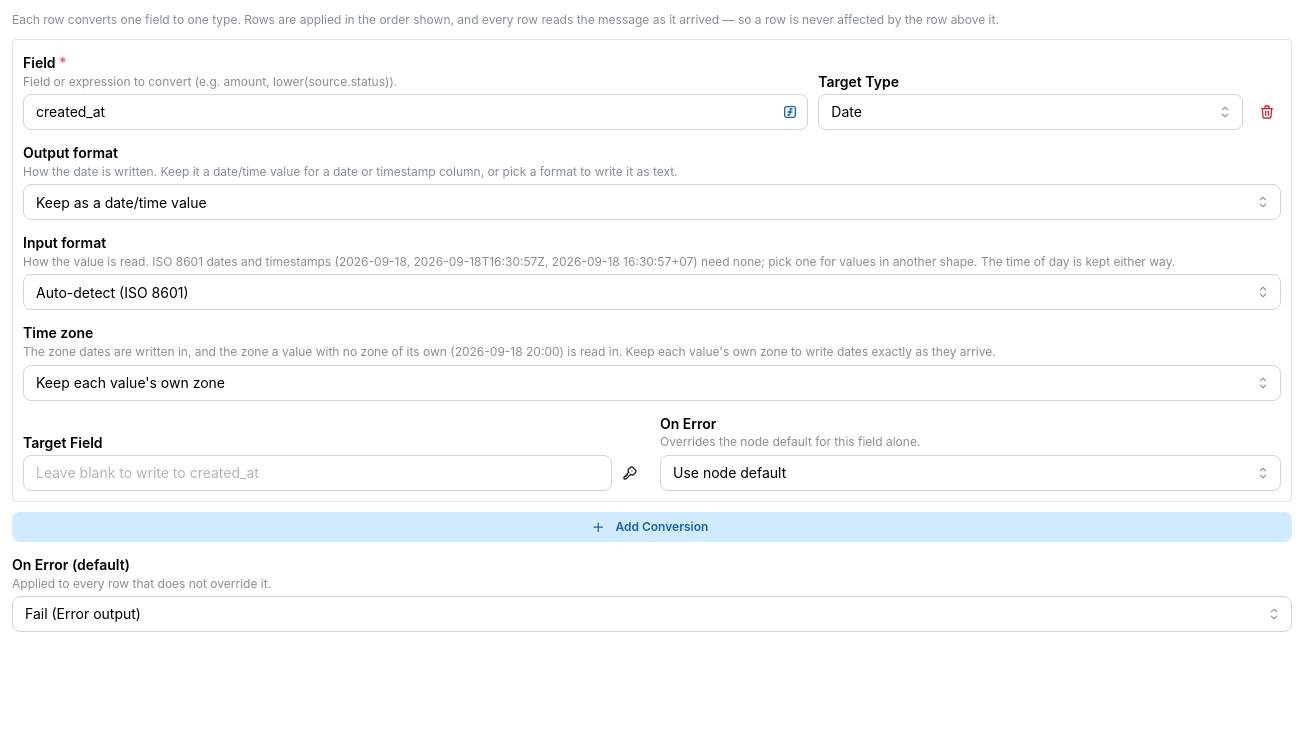
Test: data_conversion date formats › writes the layout behind the output format picked
The image size is (1304, 732).
Click the dropdown labelled "Output format" at coordinates (652, 202), box [23,184,1281,220]
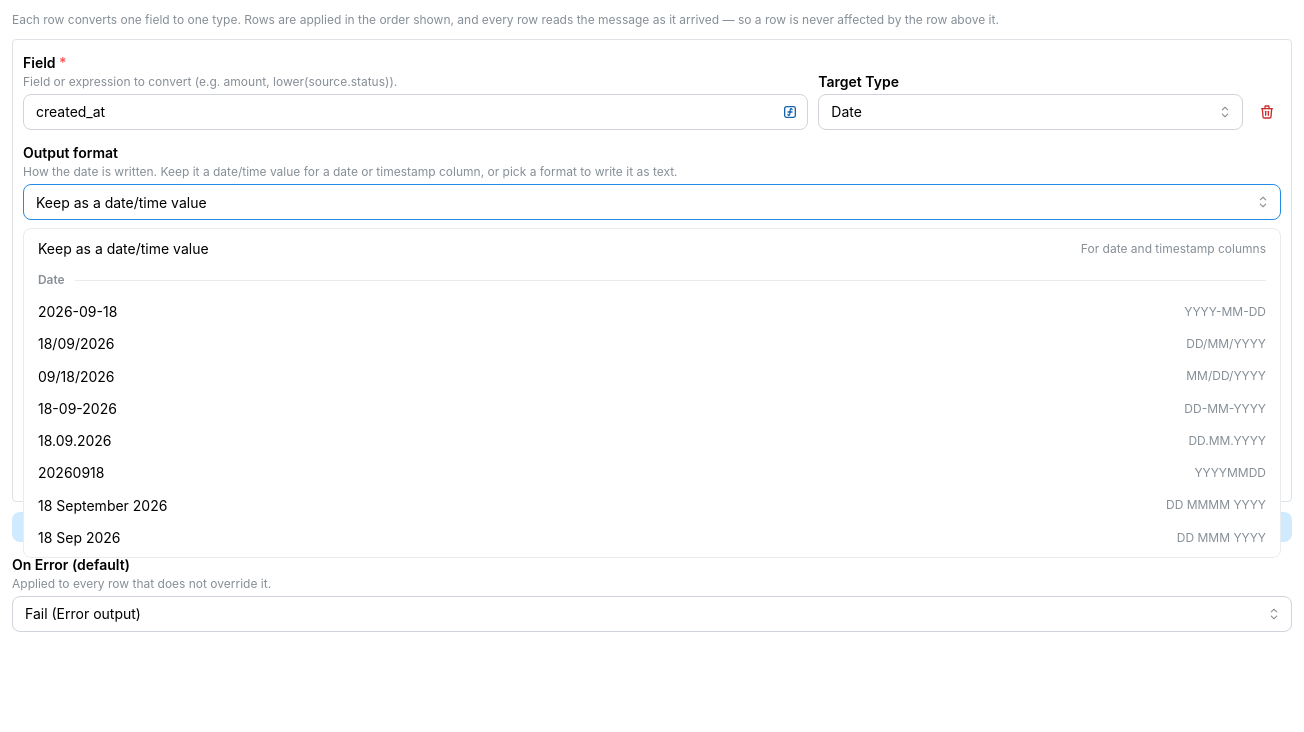
Expected: the option "18 September 2026 DD MMMM YYYY" is shown
Click the option "18 September 2026 DD MMMM YYYY" at coordinates (103, 505), box [38,497,1266,514]
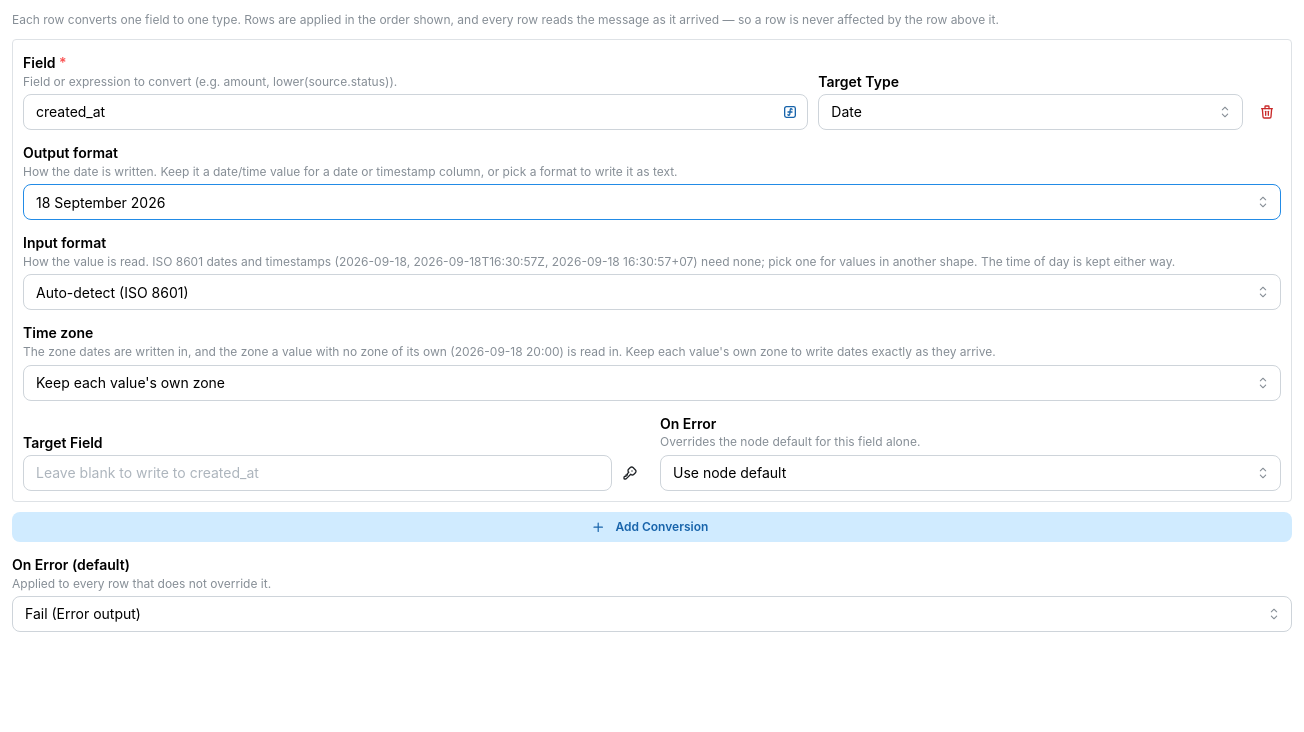
Expected: the dropdown labelled "Output format" holds "18 September 2026", [23,184,1281,220]
